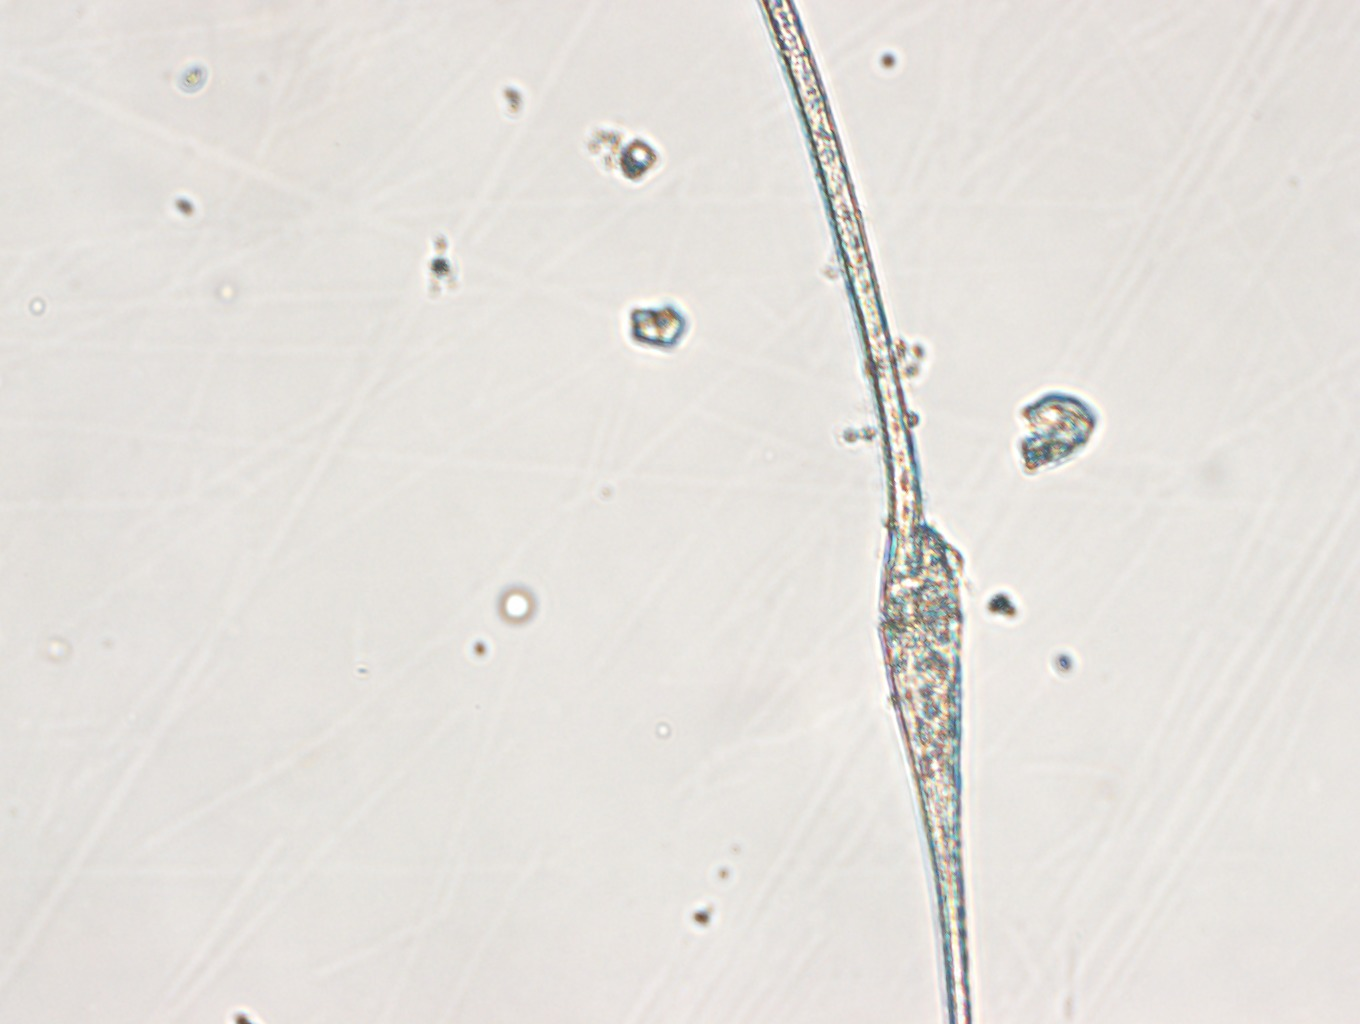ceratium fusus: (751, 14, 975, 1024)
